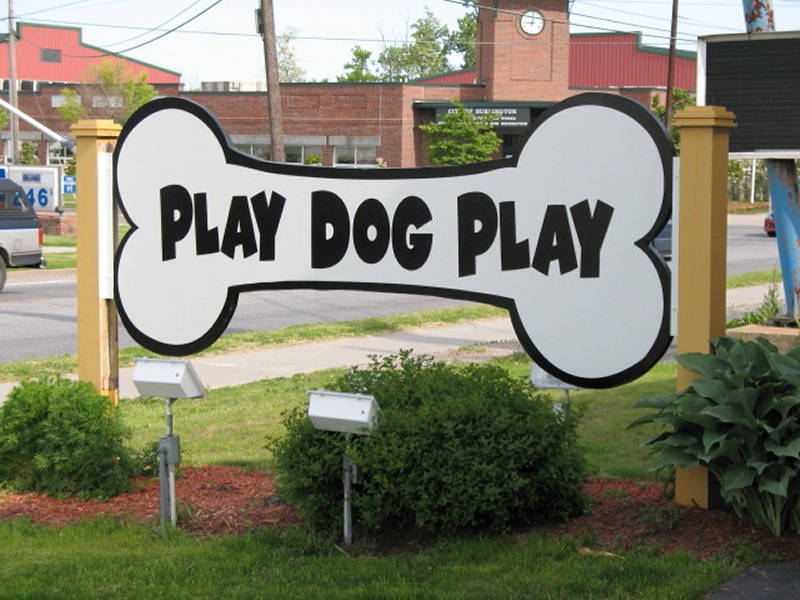text: (449, 191, 464, 282), (465, 191, 480, 282), (481, 191, 496, 282), (497, 191, 512, 282), (513, 191, 528, 282), (529, 191, 544, 282), (545, 191, 560, 282), (561, 191, 576, 282), (577, 191, 592, 282), (593, 191, 608, 282), (609, 191, 624, 282), (309, 190, 324, 273), (325, 190, 340, 273), (341, 190, 356, 273), (357, 190, 372, 273), (373, 190, 388, 273), (389, 190, 404, 273), (405, 190, 420, 273), (421, 190, 436, 273), (151, 185, 166, 264), (167, 185, 182, 264), (183, 185, 198, 264), (199, 185, 214, 264), (215, 185, 230, 264), (231, 185, 246, 264), (247, 185, 262, 264), (263, 185, 278, 264), (279, 185, 294, 264), (8, 186, 23, 214), (24, 186, 39, 214), (40, 186, 55, 214), (7, 187, 22, 207), (23, 187, 38, 207), (39, 187, 54, 207), (16, 174, 31, 184), (32, 174, 47, 184), (473, 109, 488, 117), (489, 109, 504, 117), (505, 109, 520, 117), (62, 186, 77, 194), (446, 109, 461, 116), (484, 123, 499, 128), (500, 123, 515, 128), (516, 123, 531, 128), (473, 118, 488, 122), (489, 118, 504, 122), (505, 118, 520, 122)
